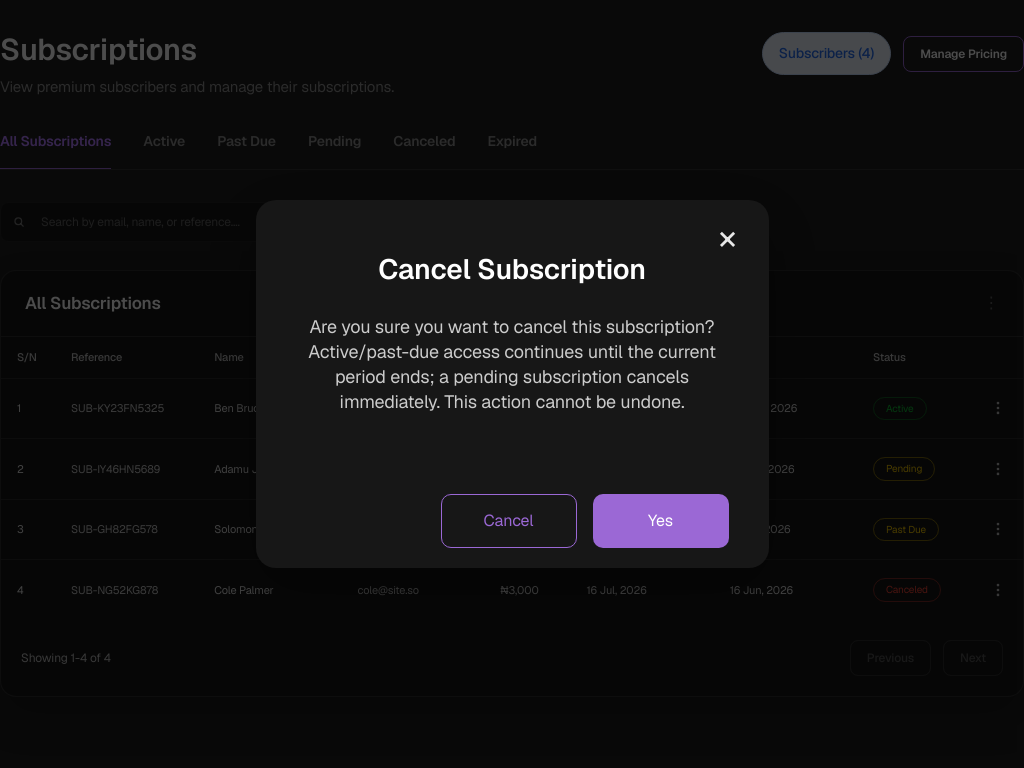
SubscriptionsPage › closes route-opened cancel modal without router navigation
What coordinates should you click on to do the following:
click the button with aria-label "Keep subscription"
I would click on:
 (508, 521)
Its box is [440,494,576,548].
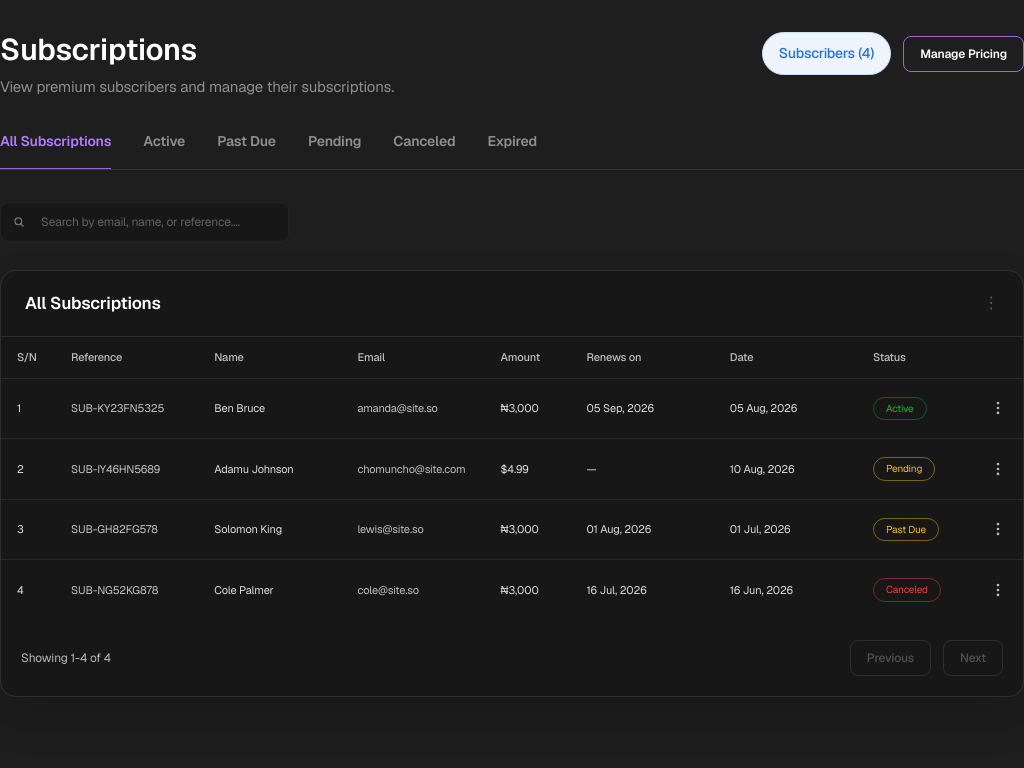
Expected: the heading "Cancel Subscription" is gone
